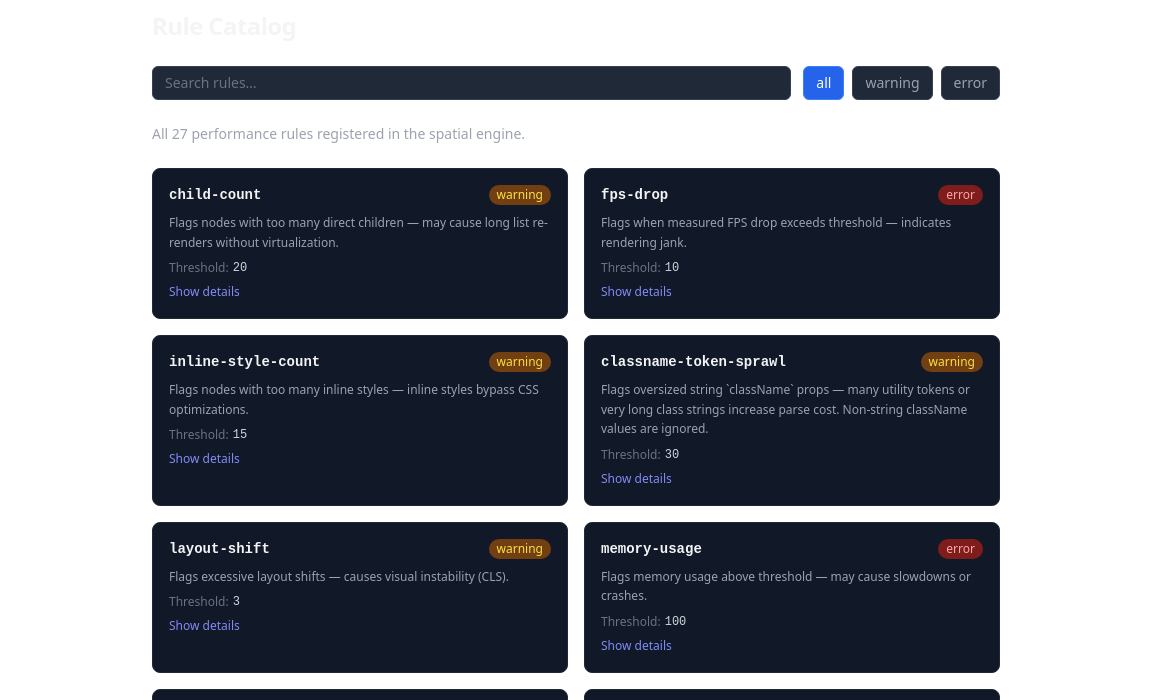
Test: D10: Rule catalog severity filter › clicking "warning" filter shows only warning rules
What coordinates should you click on to do the following:
click the button "warning"
I would click on:
 (892, 83)
Its box is [852, 66, 933, 100].
(page scrolled)
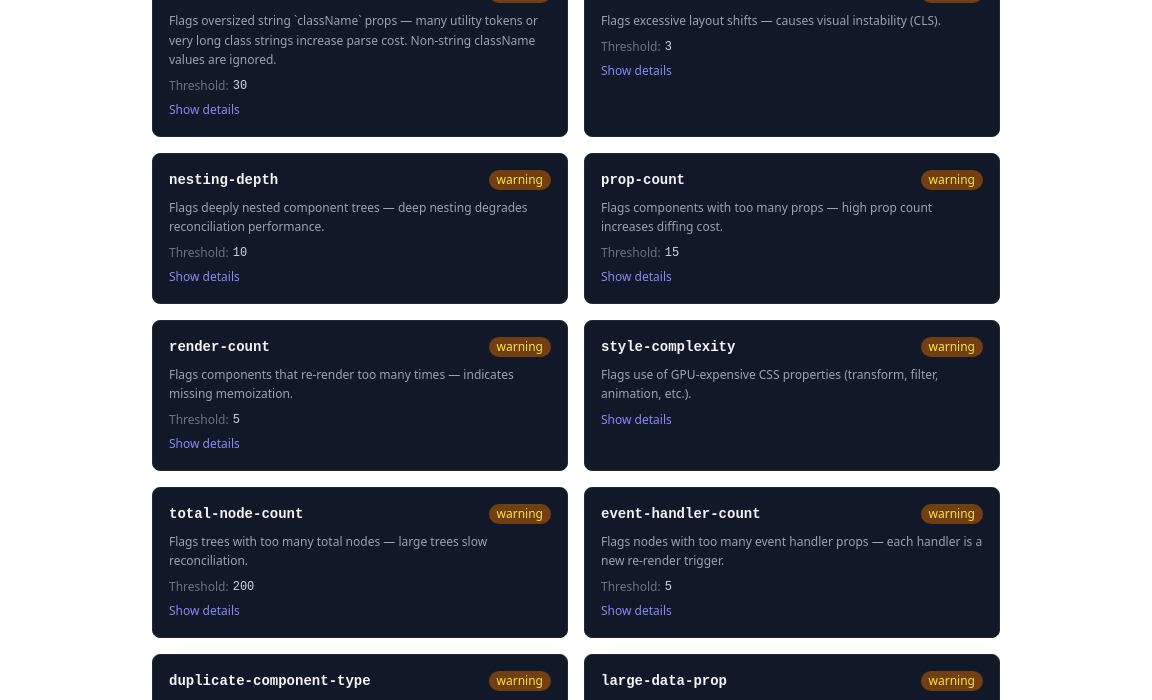
Check: the heading "render-count" is shown, box [169, 336, 270, 356]
Check: the heading "fps-drop" is gone
